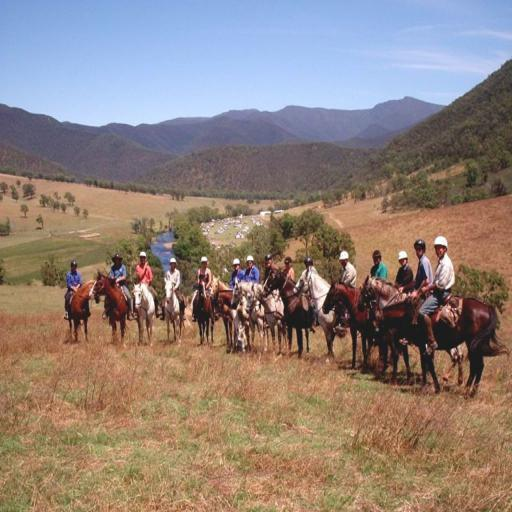horse: (190, 264, 512, 398), (90, 270, 130, 350), (66, 276, 102, 344), (131, 282, 157, 345), (160, 276, 182, 342)
